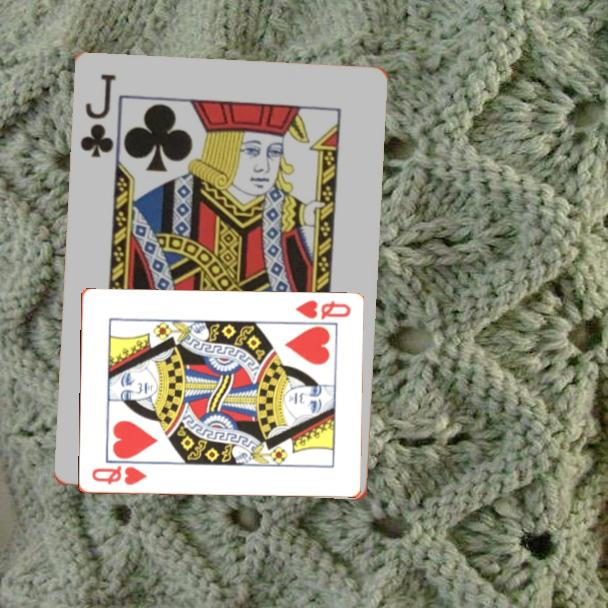c11: (77, 71, 120, 161)
h12: (291, 297, 353, 323), (88, 463, 150, 488)
